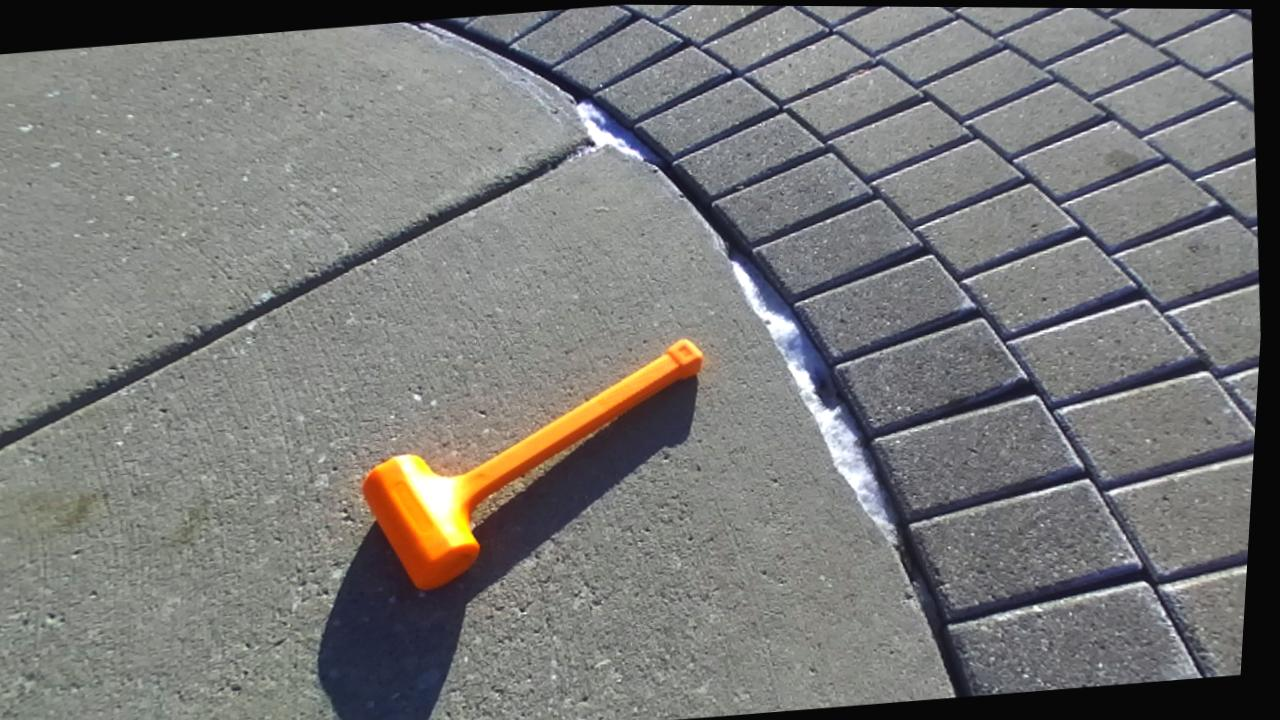mallet: (363, 340, 702, 589)
